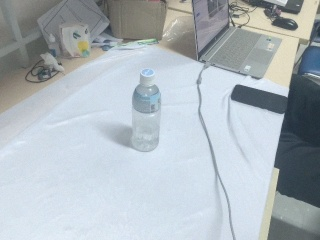bottle: (129, 67, 166, 153)
box: (104, 1, 167, 43)
mouse: (272, 16, 299, 30)
phone: (229, 84, 289, 115)
